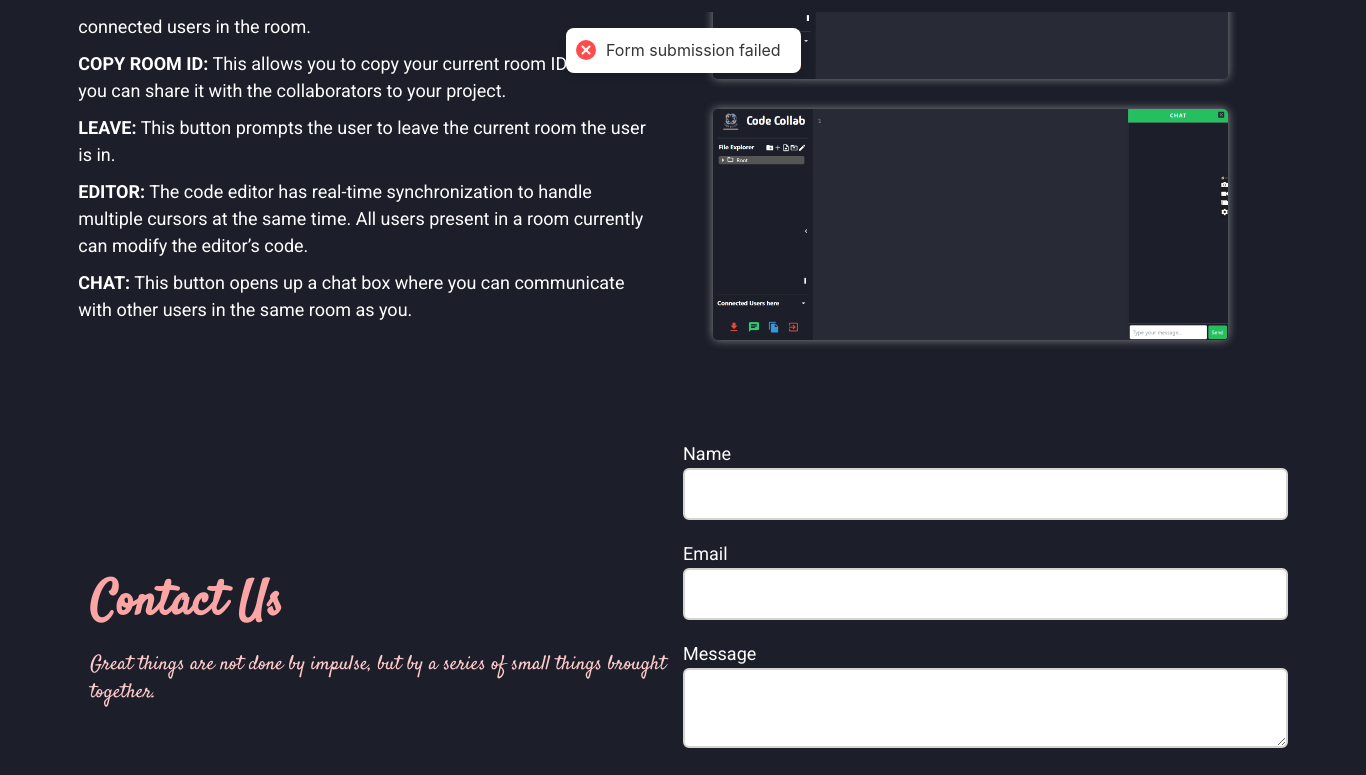
Test case: Form functionality › handles form submission error
(page scrolled)
// Fill out the form fields
In the field labelled "Name": coordinates (985, 494) [683,468,1288,520], type "John"
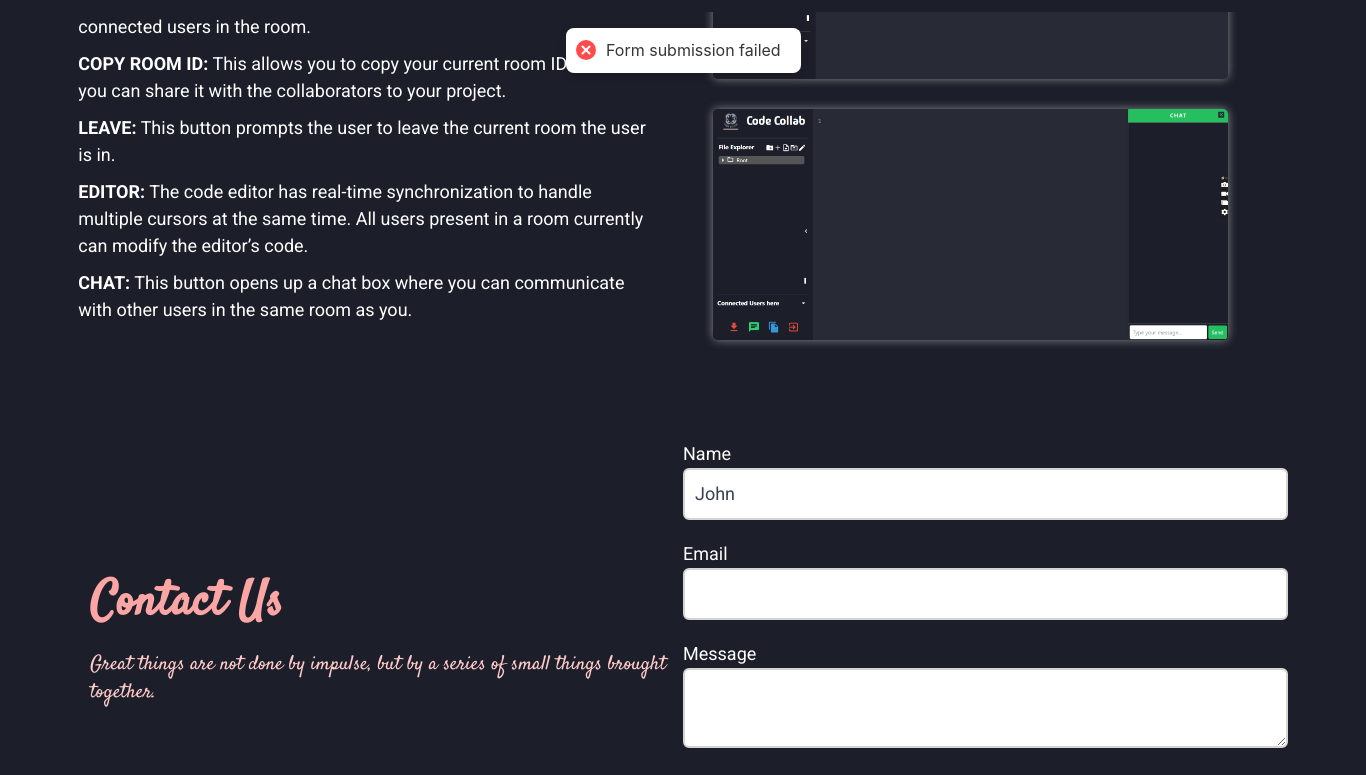
In the field labelled "Email": coordinates (985, 594) [683,568,1288,620], type "john@example.com"
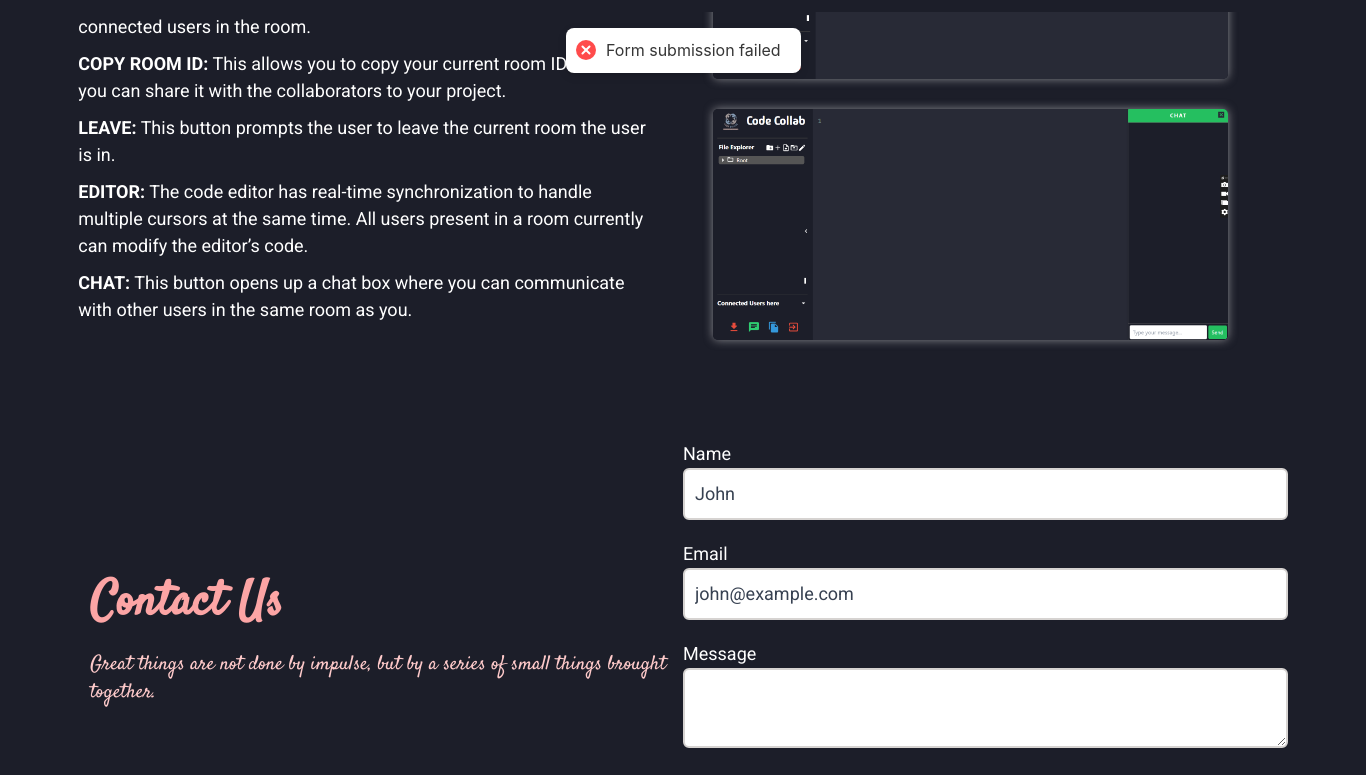
In the text box labelled "Message": coordinates (985, 708) [683,668,1288,748], type "Hello, World!"
(page scrolled)
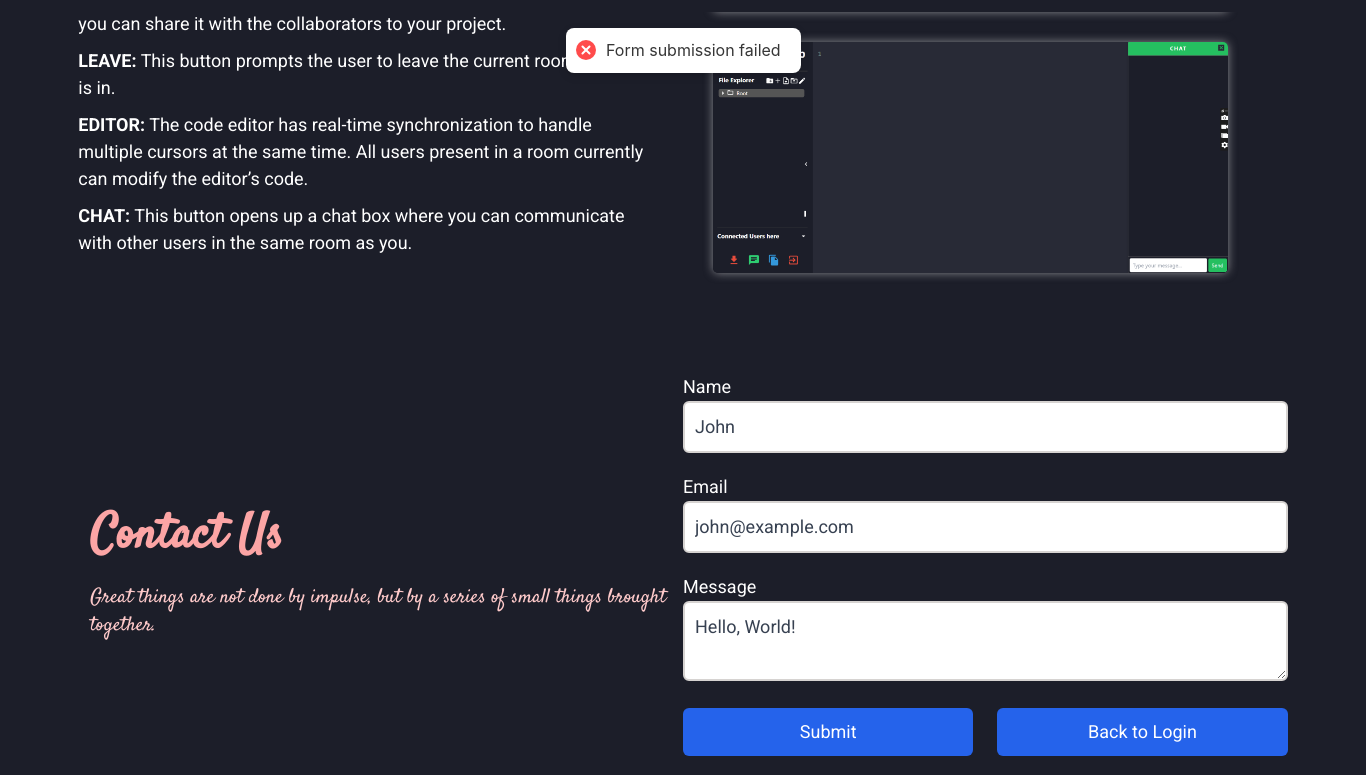
// Submit the form
Click the button "Submit": coordinates (828, 732) [683,708,973,756]
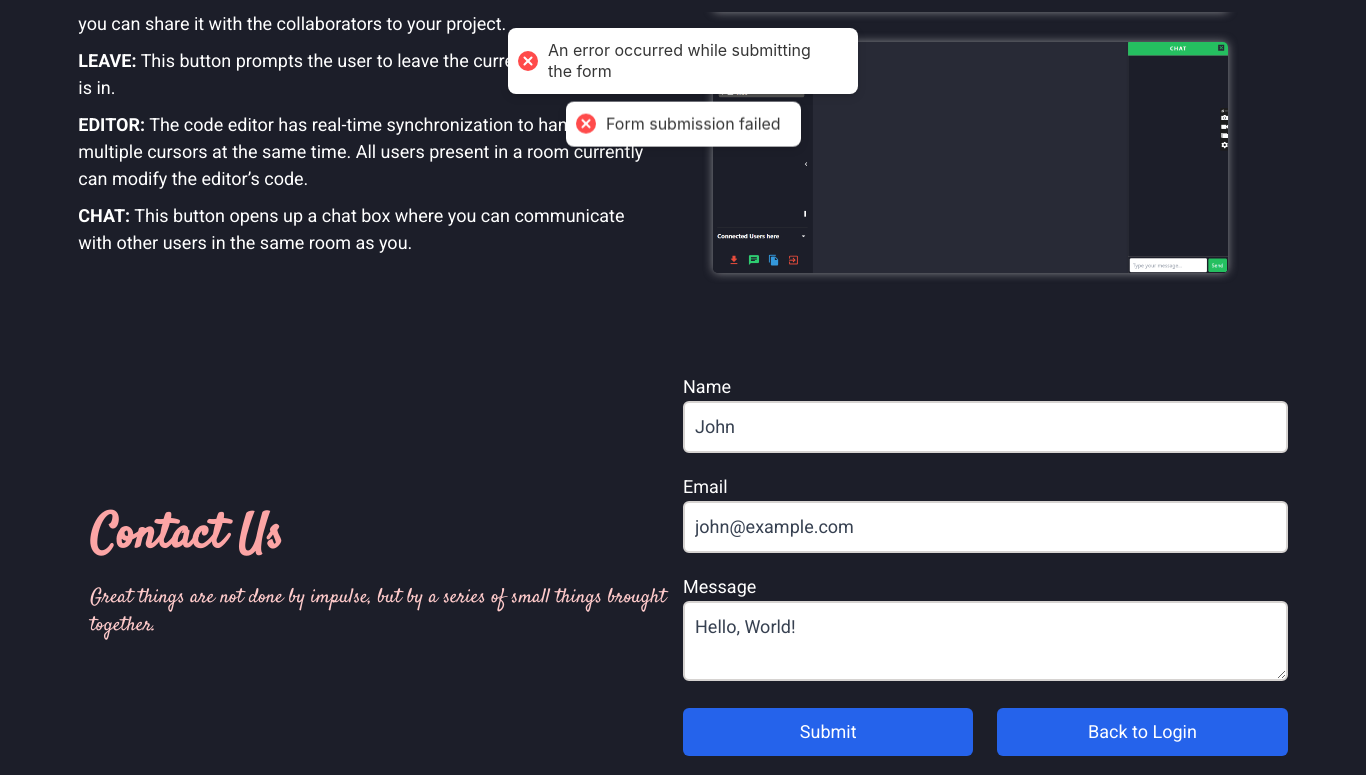
Now the text "An error occurred while submitting the form" is shown, box [548,40,838,82]
